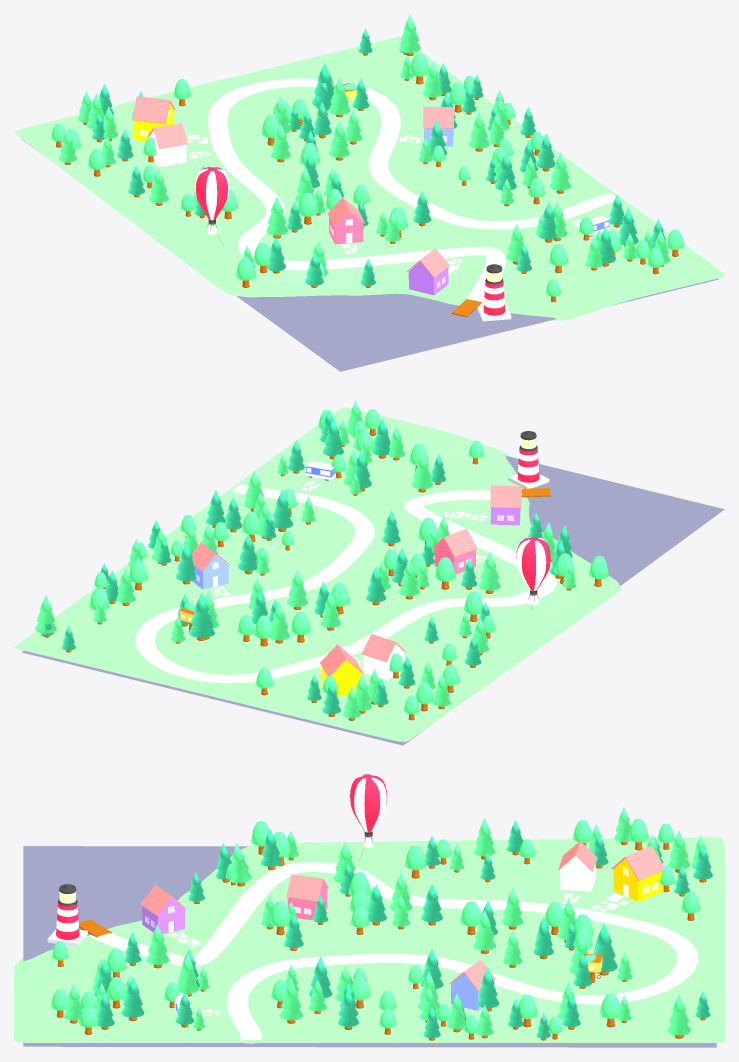
The model's file is SpiekMap.glb.
3 renders of one model, top to bottom at view 1: azimuth 30°, elevation 25°; view 2: azimuth 150°, elevation 25°; view 3: azimuth 270°, elevation 25°, orthographic. The views are drawn at different scales.
Parts seen in each view (by area): view 1: Plane, Plane.001, BézierCurve, Circle, Cube.002, Cube.005, Cube.003, Cube.004, Cylinder, Cube.001; view 2: Plane, Plane.001, BézierCurve, Circle, Cube.002, Cube.001, Cube.003, Cube.004, Cube.005, Cylinder, Cube.023, Cube.075; view 3: Plane, Plane.001, BézierCurve, Cube.002, Circle, Cube.005, Cube.003, Cube.004, Cube.001, Cylinder, Cube.023, Cube.054 (+26 smaller).
Boxes of the visible parts, x1,y1,x2,y2 form: Plane: (14, 36, 724, 320); Plane.001: (21, 138, 718, 371); BézierCurve: (208, 78, 615, 305); Circle: (195, 166, 229, 224); Cube.002: (132, 96, 175, 141); Cube.005: (407, 248, 449, 295); Cube.003: (147, 123, 187, 166); Cube.004: (327, 197, 364, 244); Cylinder: (483, 264, 505, 315); Cube.001: (423, 106, 454, 146); Plane: (14, 407, 621, 741); Plane.001: (21, 456, 724, 745); BézierCurve: (135, 484, 557, 683); Circle: (516, 537, 550, 595); Cube.002: (320, 644, 363, 696); Cube.001: (191, 542, 229, 589); Cube.003: (361, 634, 405, 680); Cube.004: (433, 528, 477, 574); Cube.005: (490, 485, 521, 525); Cylinder: (517, 431, 539, 482); Cube.023: (189, 592, 214, 640); Cube.075: (478, 551, 500, 593); Plane: (14, 837, 724, 1042); Plane.001: (23, 846, 716, 1047); BézierCurve: (89, 862, 698, 1043); Cube.002: (611, 846, 664, 901); Circle: (350, 774, 387, 837); Cube.005: (140, 885, 186, 934); Cube.003: (558, 841, 597, 891); Cube.004: (286, 874, 328, 920); Cube.001: (449, 960, 495, 1010); Cylinder: (56, 884, 79, 939); Cube.023: (593, 923, 617, 975); Cube.054: (667, 993, 690, 1038).
Size of the model in its own units: 31 by 6.43 by 45.23.
